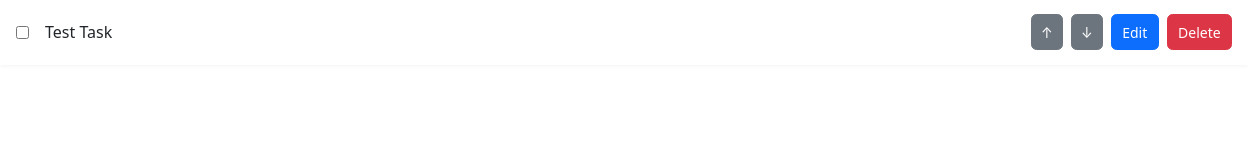
Test case: TaskListElement component › returns to the normal view after saving
Click the button with test id "edit-button".
click(1135, 32)  # box [1111,14,1159,50]
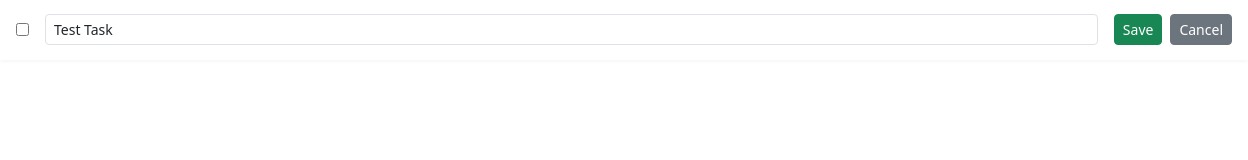
Click the button with test id "save-button".
click(1138, 30)  # box [1114,14,1162,45]
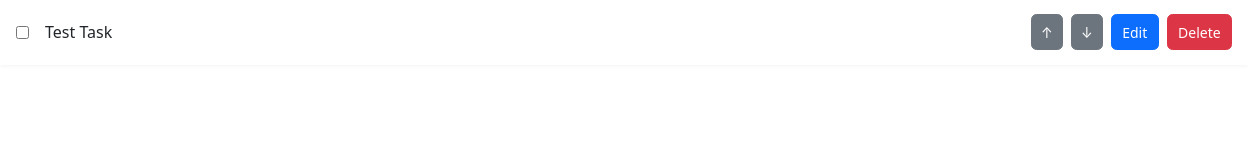
expect the list item with test id "task-edit-view" is gone: met
